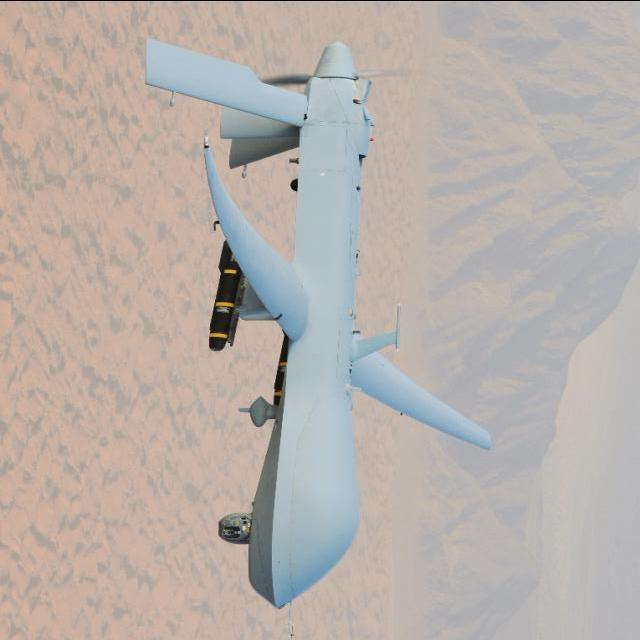Missile: (205, 253, 240, 356)
